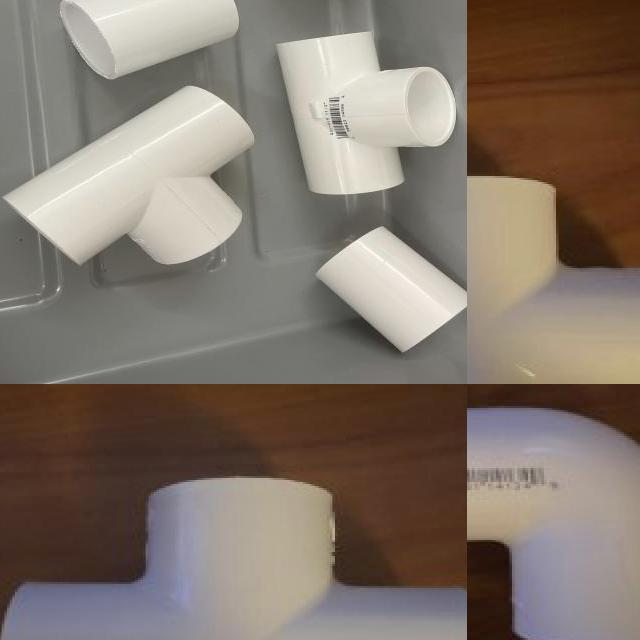L Joint: (467, 407, 640, 640)
T Joint: (0, 478, 467, 640), (4, 86, 256, 267), (467, 176, 640, 384), (273, 33, 454, 198)
